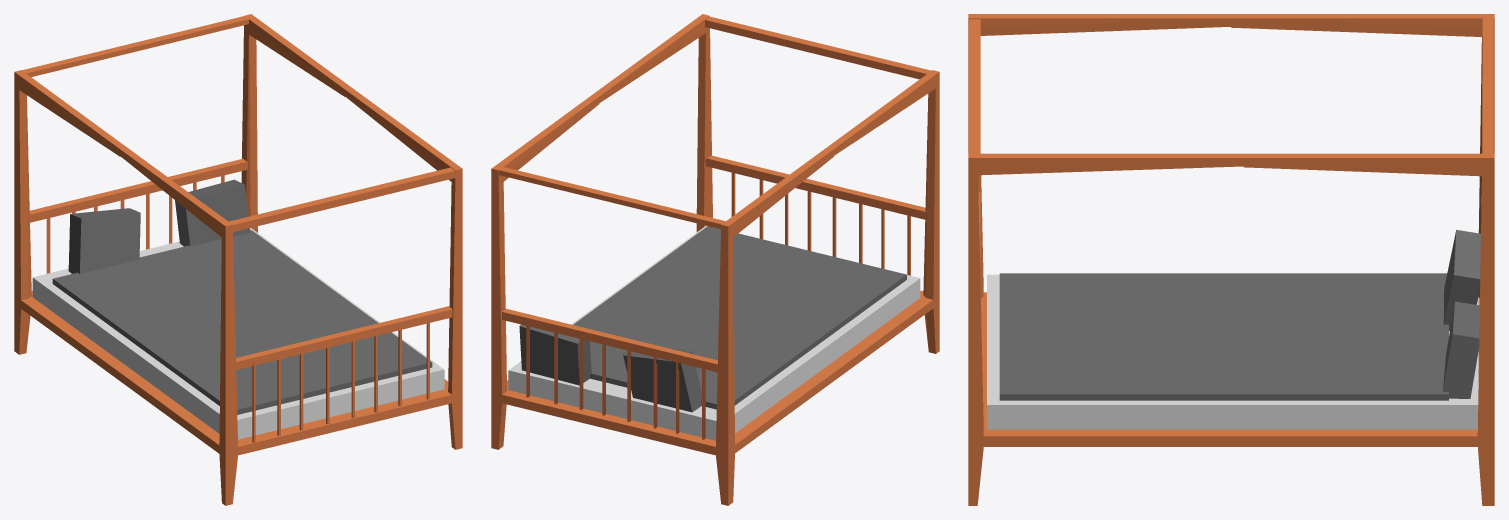
The model's file is bett.dae.
3 renders of one model, left to right at view 1: azimuth 30°, elevation 25°; view 2: azimuth 150°, elevation 25°; view 3: azimuth 270°, elevation 25°, orthographic. The views are drawn at different scales.
Visible parts, largest first — view 1: Cube; view 2: Cube; view 3: Cube.
Part boxes in pixels (x1=…): Cube: x1=14, y1=14, x2=462, y2=505; Cube: x1=491, y1=14, x2=939, y2=505; Cube: x1=968, y1=14, x2=1494, y2=505.
Size of the model in its own units: 2 by 3.09 by 2.25.
